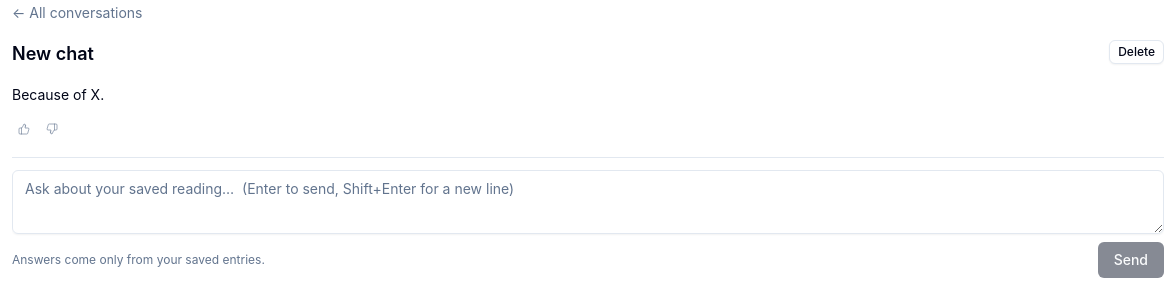
it: chat feedback wiring › posts a correction when the opposite thumb is clicked
What coordinates should you click on to do the following:
click the button named "Mark this answer helpful"
I would click on:
 (24, 129)
Its box is top-left (12, 117), bottom-right (36, 141).
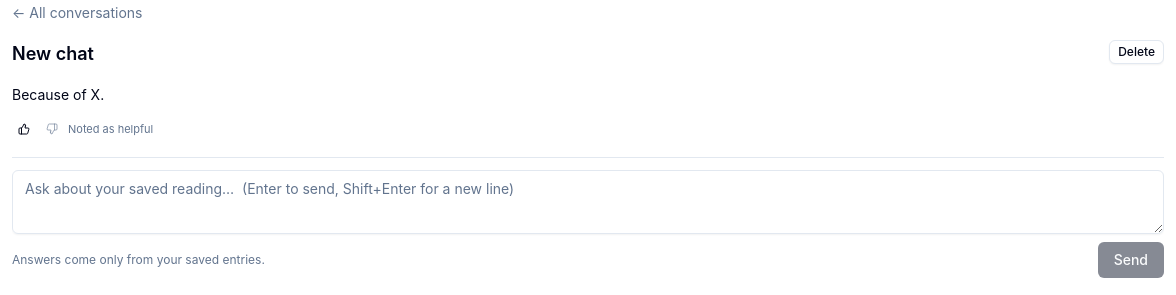
Expected: the text "Noted as helpful" is shown, top-left (68, 120), bottom-right (153, 137)
What coordinates should you click on to do the following:
click the button named "Mark this answer unhelpful"
I would click on:
 (52, 129)
Its box is top-left (40, 117), bottom-right (64, 141).
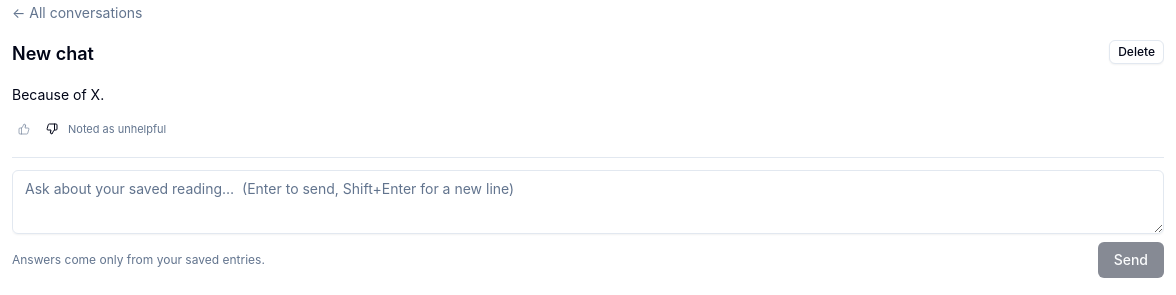
Expected: the text "Noted as unhelpful" is shown, top-left (68, 120), bottom-right (166, 137)
Expected: the text "Noted as helpful" is gone
